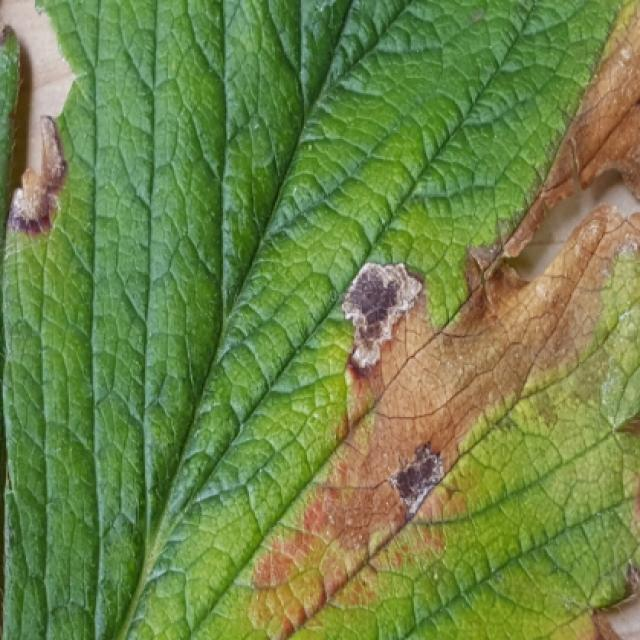Angular Leafspot: (227, 0, 638, 638)
